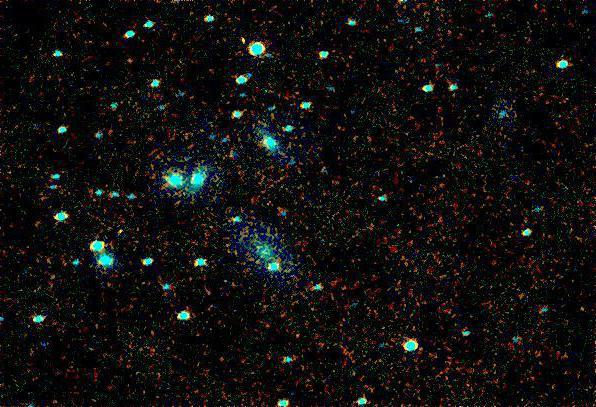star: (105, 217, 135, 247)
